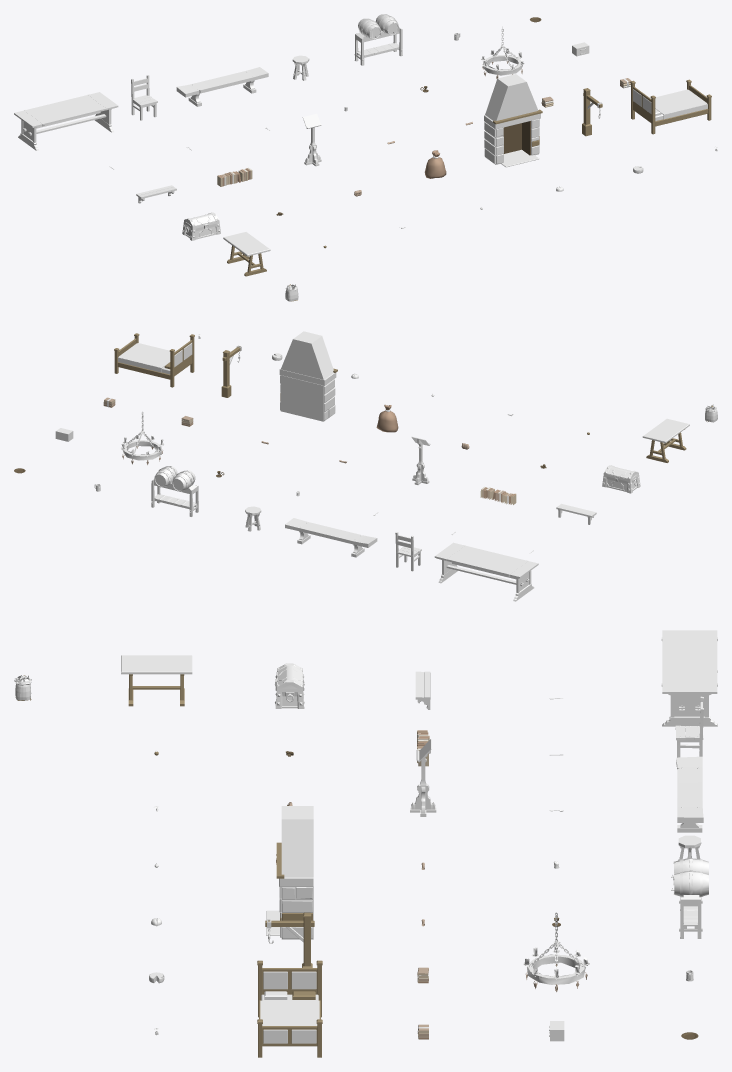
File: props_int_mercado.glb
3 renders of one model, top to bottom at view 1: azimuth 30°, elevation 25°; view 2: azimuth 150°, elevation 25°; view 3: azimuth 270°, elevation 25°, orthographic. The views are drawn at different scales.
Visible parts, largest first — view 1: PROP_AV_Village_Hearth, PROP_Q_Table_Large, PROP_AV_Bed, PROP_Q_Barrel_Holder, PROP_Q_Bench, PROP_AV_Table, PROP_Q_Chandelier, PROP_Q_Chest_Wood, PROP_Q_Chair_1, PROP_Q_BookStand, PROP_AV_Potcrane; view 2: PROP_AV_Village_Hearth, PROP_Q_Table_Large, PROP_AV_Bed, PROP_Q_Barrel_Holder, PROP_Q_Bench, PROP_AV_Table, PROP_Q_Chandelier, PROP_Q_Chest_Wood, PROP_Q_Chair_1, PROP_AV_Potcrane, PROP_Q_Bag; view 3: PROP_AV_Bed, PROP_Q_Table_Large, PROP_AV_Village_Hearth, PROP_Q_Barrel_Holder, PROP_Q_Bench, PROP_AV_Table, PROP_Q_Chandelier, PROP_Q_Chest_Wood, PROP_AV_Potcrane, PROP_Q_BookStand, PROP_Q_Chair_1.
Boxes of the visible parts, left/top/right/bottom form: PROP_AV_Village_Hearth: left=484, top=74, right=542, bottom=167; PROP_Q_Table_Large: left=14, top=92, right=118, bottom=150; PROP_AV_Bed: left=630, top=79, right=711, bottom=134; PROP_Q_Barrel_Holder: left=354, top=14, right=402, bottom=65; PROP_Q_Bench: left=176, top=67, right=268, bottom=106; PROP_AV_Table: left=223, top=232, right=270, bottom=276; PROP_Q_Chandelier: left=480, top=26, right=524, bottom=78; PROP_Q_Chest_Wood: left=182, top=212, right=220, bottom=240; PROP_Q_Chair_1: left=131, top=75, right=157, bottom=120; PROP_Q_BookStand: left=302, top=113, right=321, bottom=166; PROP_AV_Potcrane: left=582, top=88, right=602, bottom=136; PROP_AV_Village_Hearth: left=279, top=331, right=337, bottom=421; PROP_Q_Table_Large: left=434, top=542, right=538, bottom=601; PROP_AV_Bed: left=114, top=333, right=194, bottom=387; PROP_Q_Barrel_Holder: left=151, top=466, right=198, bottom=516; PROP_Q_Bench: left=285, top=518, right=377, bottom=557; PROP_AV_Table: left=642, top=418, right=689, bottom=462; PROP_Q_Chandelier: left=120, top=412, right=164, bottom=464; PROP_Q_Chest_Wood: left=602, top=465, right=640, bottom=493; PROP_Q_Chair_1: left=395, top=532, right=421, bottom=571; PROP_AV_Potcrane: left=221, top=345, right=241, bottom=397; PROP_Q_Bag: left=376, top=404, right=398, bottom=432; PROP_AV_Bed: left=257, top=960, right=322, bottom=1057; PROP_Q_Table_Large: left=661, top=630, right=717, bottom=726; PROP_AV_Village_Hearth: left=266, top=806, right=313, bottom=939; PROP_Q_Barrel_Holder: left=671, top=858, right=708, bottom=938; PROP_Q_Bench: left=676, top=756, right=703, bottom=832; PROP_AV_Table: left=121, top=655, right=192, bottom=706; PROP_Q_Chandelier: left=523, top=912, right=589, bottom=991; PROP_Q_Chest_Wood: left=275, top=663, right=304, bottom=708; PROP_AV_Potcrane: left=265, top=912, right=314, bottom=967; PROP_Q_BookStand: left=410, top=739, right=436, bottom=816; PROP_Q_Chair_1: left=675, top=696, right=703, bottom=757.
Size of what is drawn, in the model's own units: 18.01 by 2.4 by 13.73.
39 materials, 32 textured.
